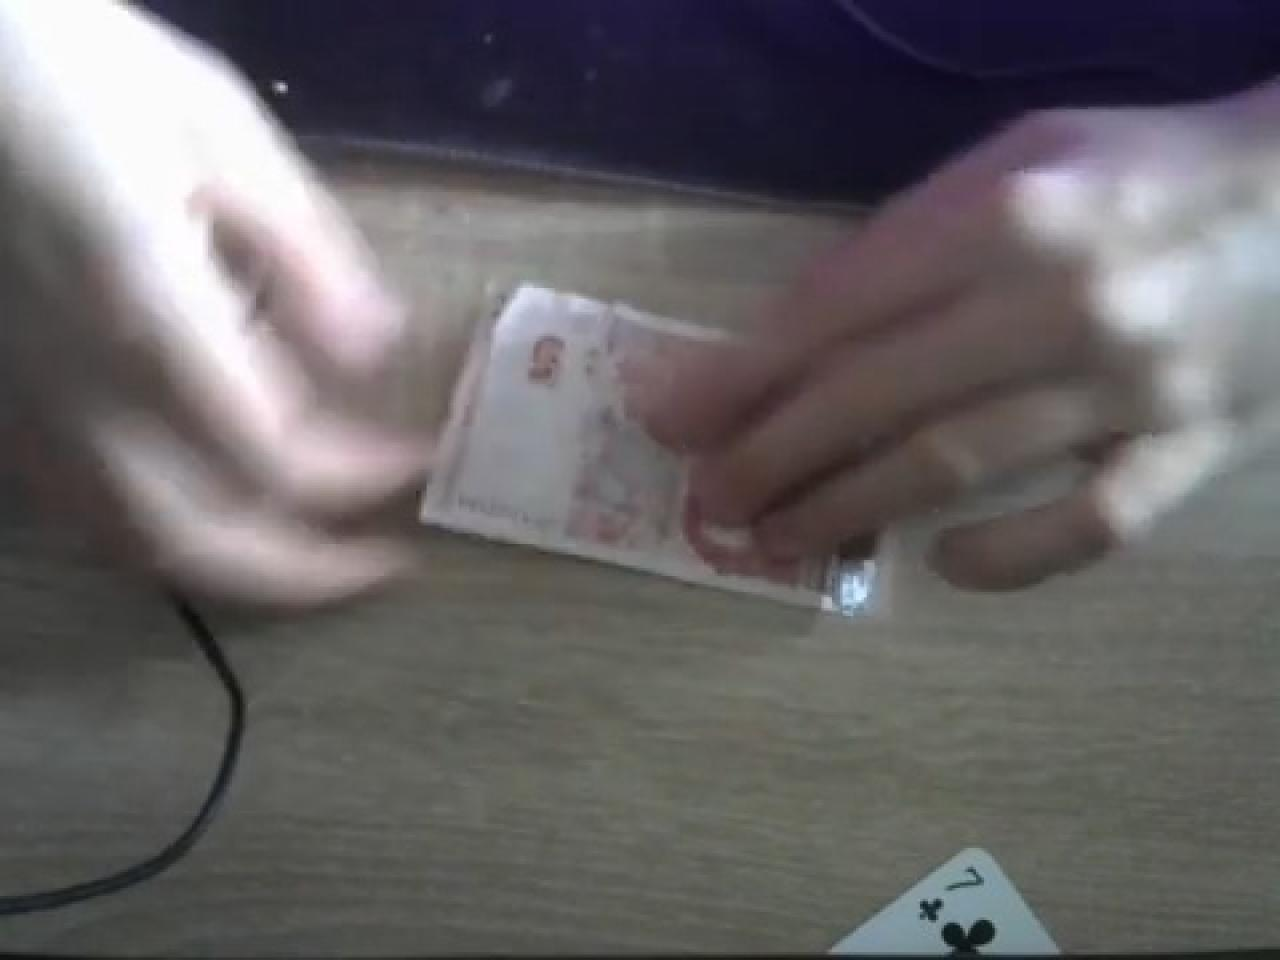5leva: (418, 282, 846, 611)
